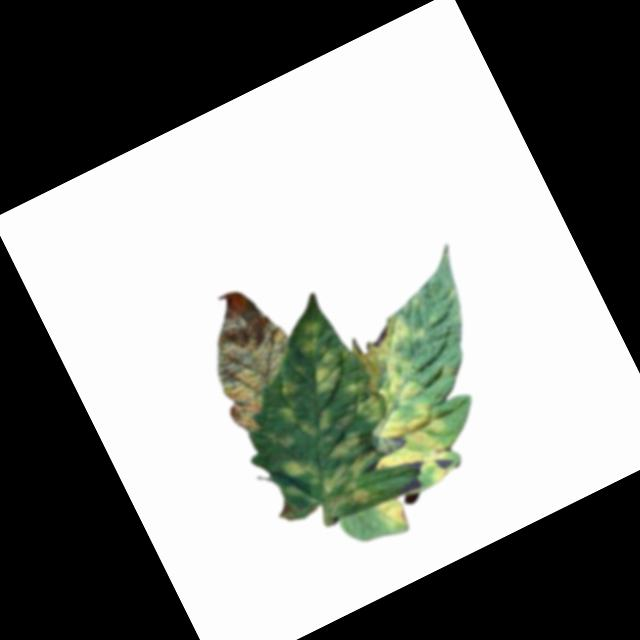Leaf_Mold: (199, 289, 426, 545), (319, 305, 488, 504), (180, 277, 318, 435), (375, 492, 410, 532)
